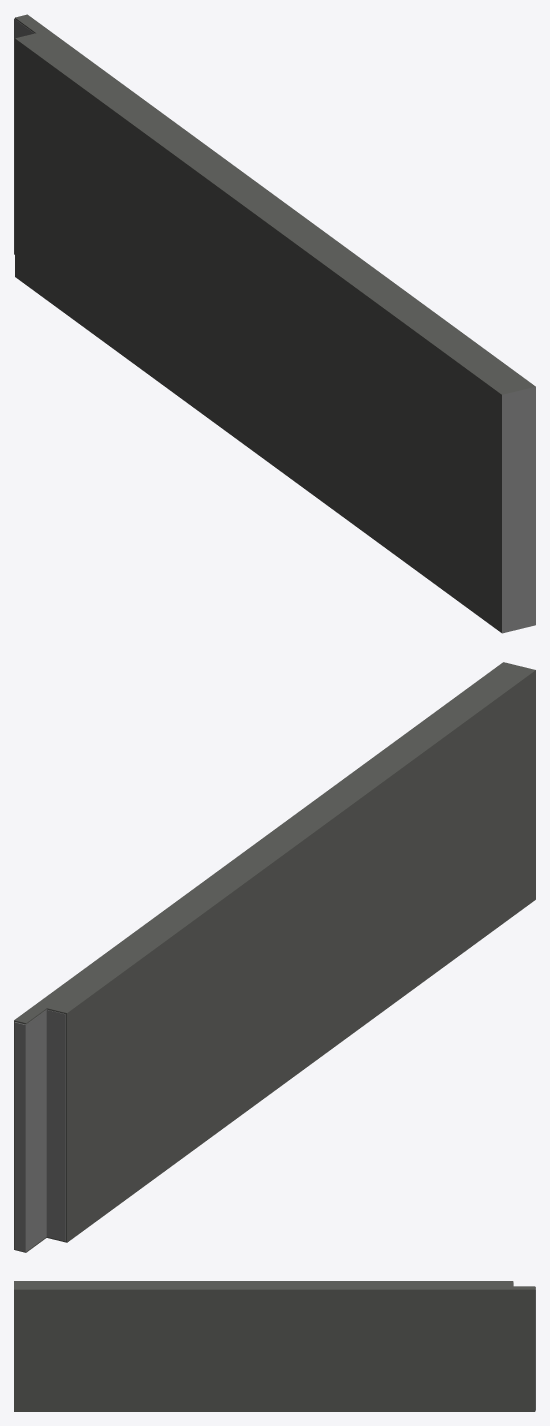
File: mv-boxcap-400-m.glb
The picture shows the model from 3 angles, top to bottom: view 1: azimuth 30°, elevation 25°; view 2: azimuth 150°, elevation 25°; view 3: azimuth 270°, elevation 25°; orthographic projection. The views are drawn at different scales.
Parts seen in each view (by area): view 1: geometry_0; view 2: geometry_0; view 3: geometry_0.
Part boxes in pixels (x1,y1,x2,y2): geometry_0: (14,14,535,633); geometry_0: (14,662,535,1252); geometry_0: (14,1281,535,1411).
Size of the model in its own units: 0.015 by 0.101 by 0.3907.
Materials: 1 (1 with a texture image).
